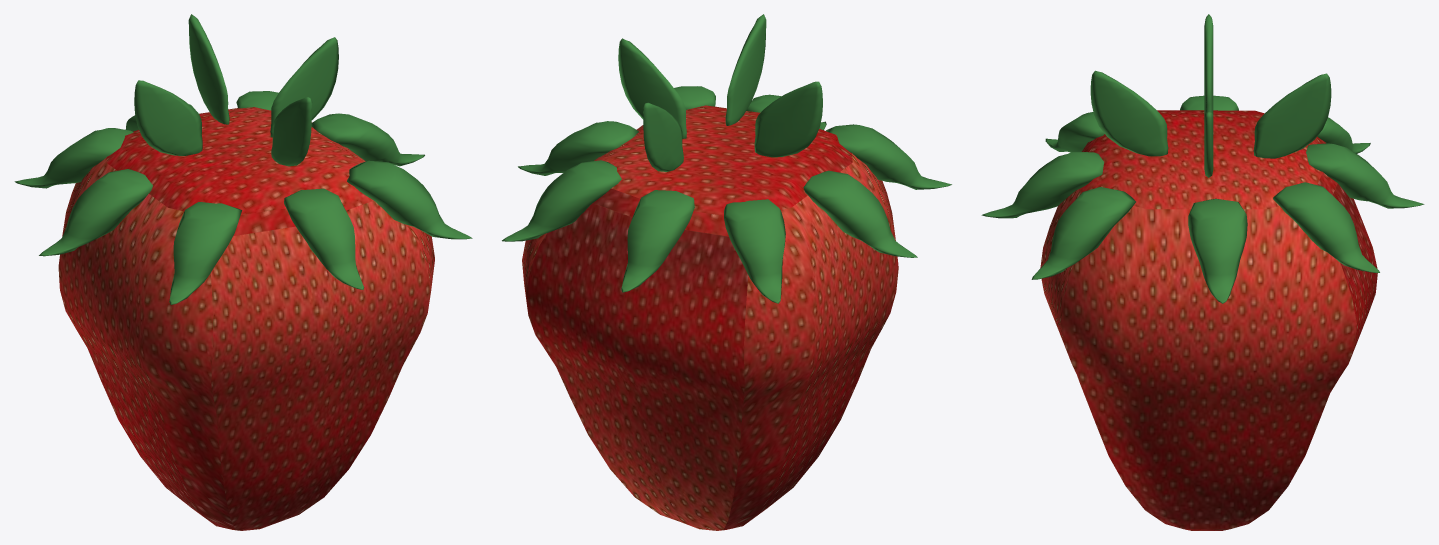
File: MOD_StrawBerry.fbx
3 renders of one model, left to right at view 1: azimuth 30°, elevation 25°; view 2: azimuth 150°, elevation 25°; view 3: azimuth 270°, elevation 25°, orthographic.
Parts seen in each view (by area): view 1: pCube23; view 2: pCube23; view 3: pCube23.
Part boxes in pixels (bbox=[...]): pCube23: bbox=[14, 14, 472, 530]; pCube23: bbox=[502, 14, 951, 530]; pCube23: bbox=[981, 14, 1424, 530].
Size of the model in its own units: 35.47 by 40.27 by 35.24.
